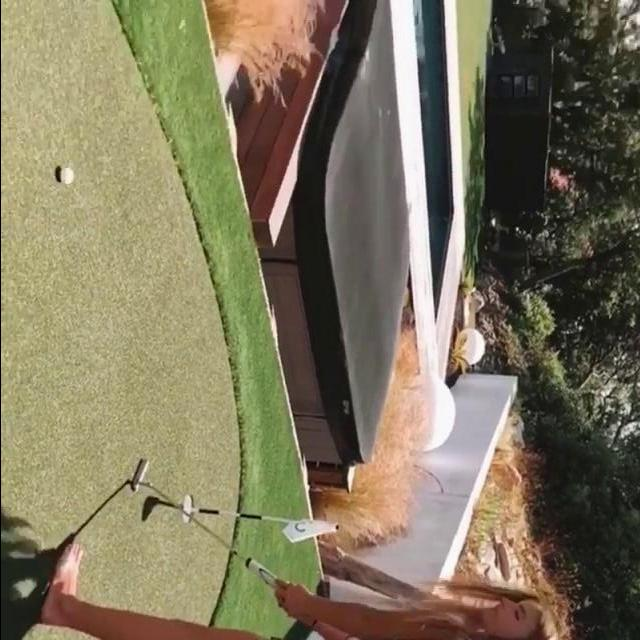golf ball: (59, 167, 72, 185)
golf club-handle: (131, 459, 275, 586)
golf club-head: (131, 458, 148, 491)
